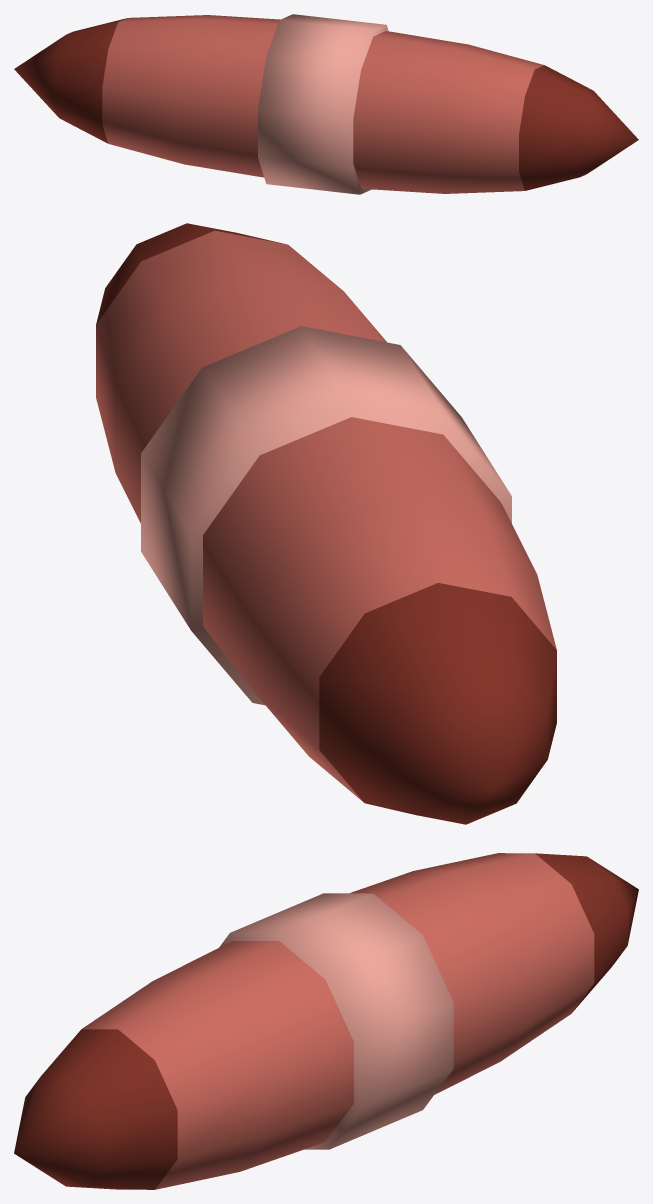
File: newshf-171-f4.glb
3 renders of one model, top to bottom at view 1: azimuth 30°, elevation 25°; view 2: azimuth 150°, elevation 25°; view 3: azimuth 270°, elevation 25°, orthographic. The views are drawn at different scales.
Parts seen in each view (by area): view 1: newshf-171-f4; view 2: newshf-171-f4; view 3: newshf-171-f4.
Boxes of the visible parts, x1,y1,x2,y2 form: newshf-171-f4: [14, 14, 638, 194]; newshf-171-f4: [96, 223, 556, 824]; newshf-171-f4: [14, 853, 638, 1189].
Size of the model in its own units: 0.7071 by 0.27 by 0.7071.
